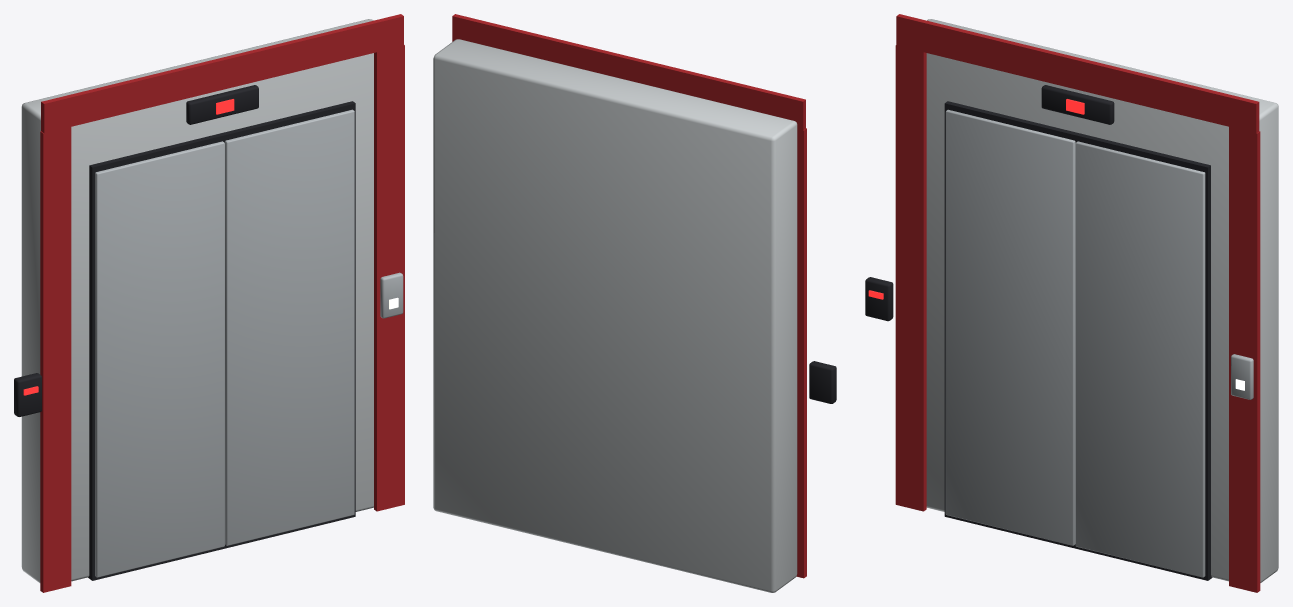
File: red_elevator.gltf
The picture shows the model from 3 angles, left to right: view 1: azimuth 30°, elevation 25°; view 2: azimuth 150°, elevation 25°; view 3: azimuth 330°, elevation 25°; orthographic projection. The views are drawn at different scales.
Visible parts, largest first — view 1: red_elevator_mesh, INT_door_L, INT_door_R; view 2: red_elevator_mesh; view 3: red_elevator_mesh, INT_door_L, INT_door_R.
Boxes of the visible parts, x1,y1,x2,y2 form: red_elevator_mesh: (14,14,404,592); INT_door_L: (95,141,224,577); INT_door_R: (225,109,354,545); red_elevator_mesh: (433,14,836,592); red_elevator_mesh: (865,14,1278,592); INT_door_L: (945,109,1075,545); INT_door_R: (1075,141,1205,577).
Size of the model in its own units: 2.22 by 2.66 by 0.32.
